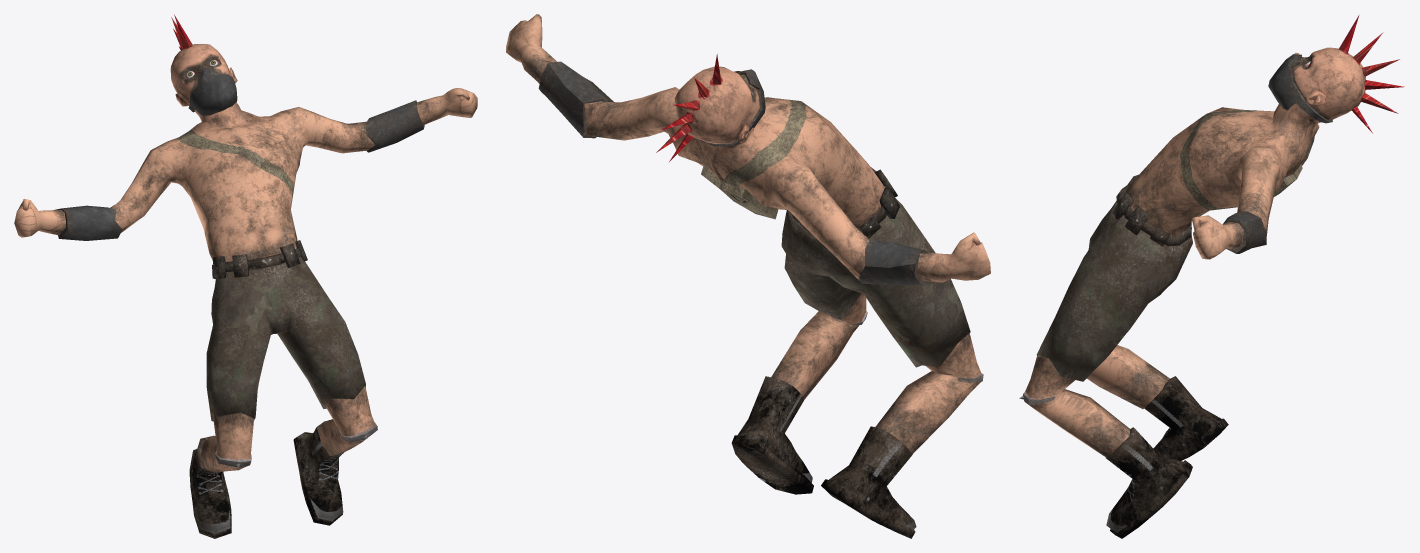
Rendered from Anim_morir_1_npc2.0020.obj.
The picture shows the model from 3 angles, left to right: view 1: azimuth 30°, elevation 25°; view 2: azimuth 150°, elevation 25°; view 3: azimuth 270°, elevation 25°; orthographic projection. The views are drawn at different scales.
Visible parts, largest first — view 1: polySurface1; view 2: polySurface1; view 3: polySurface1.
Boxes of the visible parts, x1,y1,x2,y2 form: polySurface1: (14, 14, 477, 538); polySurface1: (506, 14, 990, 538); polySurface1: (1019, 15, 1404, 538).
Bounding box in the file's own units: 7.99 × 7.97 × 5.63.
